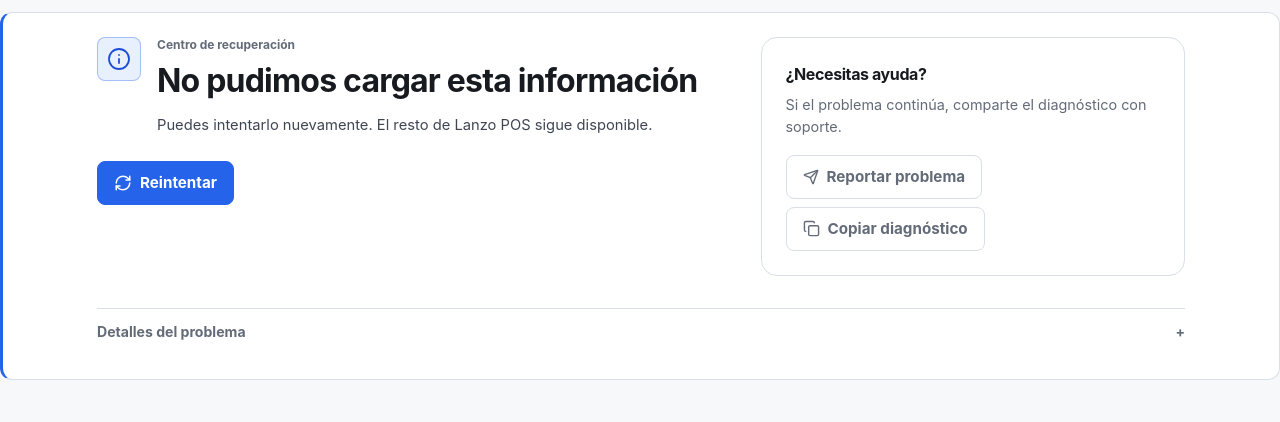
ErrorBoundary › copies the safe report and shows a temporary copied state
Click the button "Copiar diagnóstico": [885, 229] box [786,207,985,251]
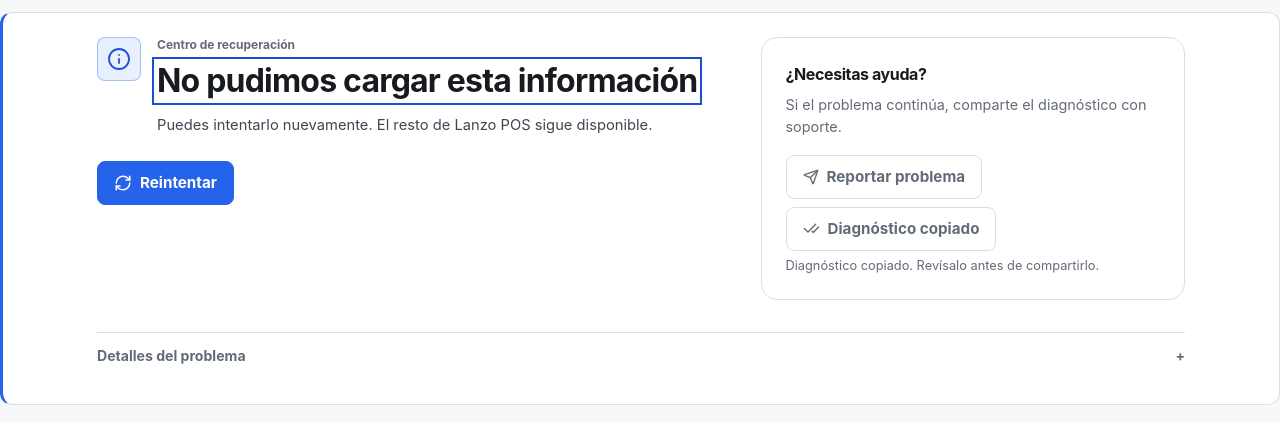
Now the button "Diagnóstico copiado" is shown, box [786,207,996,251]
